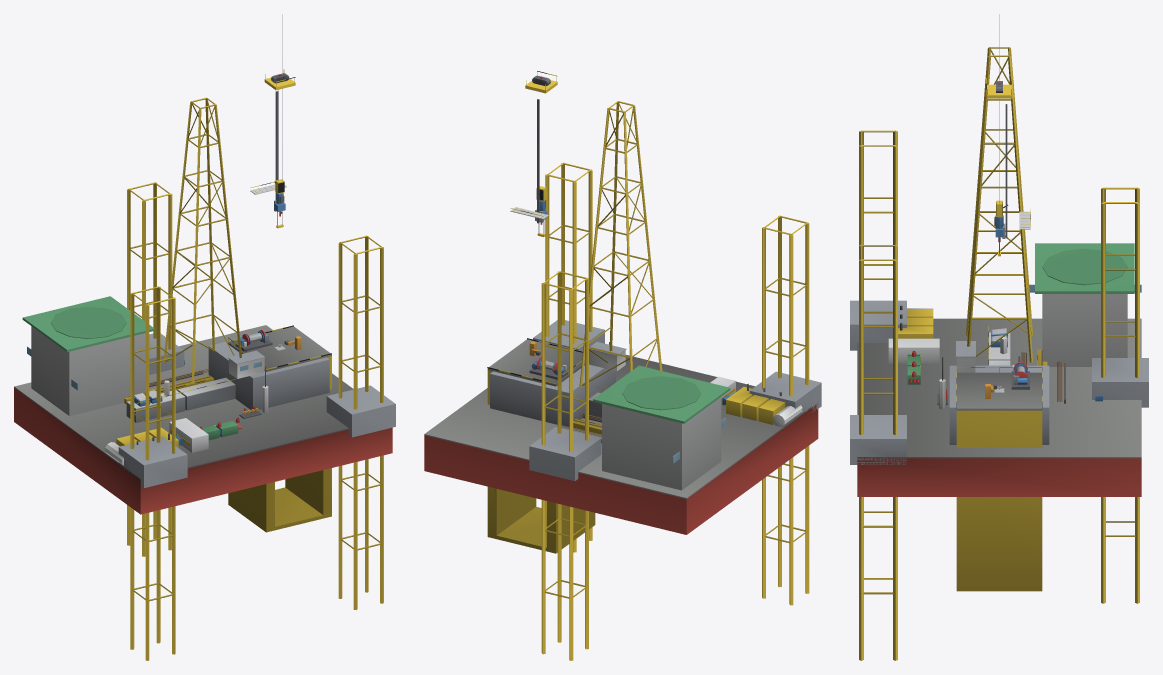
Rendered from jackup_low.glb.
The picture shows the model from 3 angles, left to right: view 1: azimuth 30°, elevation 25°; view 2: azimuth 150°, elevation 25°; view 3: azimuth 270°, elevation 25°; orthographic projection. The views are drawn at different scales.
Parts seen in each view (by area): view 1: hull__hull, hull__legs, mast__mast, mast__substructure, mudtanks__tanks, mast__floor, generators__vfd, mast__doghouse; view 2: hull__hull, hull__legs, mast__mast, mast__substructure, mast__floor, generators__gensets, mast__doghouse; view 3: hull__hull, hull__legs, mast__substructure, mast__mast, mast__floor, generators__vfd, generators__gensets, mast__doghouse, mudtanks__tanks, block__crown.
Boxes of the visible parts, x1,y1,x2,y2 form: hull__hull: [14, 296, 392, 514]; hull__legs: [118, 182, 395, 660]; mast__mast: [163, 97, 241, 383]; mast__substructure: [228, 356, 331, 532]; mudtanks__tanks: [126, 377, 235, 422]; mast__floor: [228, 325, 331, 371]; generators__vfd: [169, 418, 208, 452]; mast__doghouse: [228, 350, 265, 378]; hull__hull: [424, 340, 818, 534]; hull__legs: [529, 162, 821, 660]; mast__mast: [579, 101, 662, 386]; mast__substructure: [487, 370, 595, 553]; mast__floor: [487, 338, 584, 386]; generators__gensets: [726, 383, 785, 424]; mast__doghouse: [589, 341, 626, 371]; hull__hull: [857, 243, 1141, 496]; hull__legs: [850, 130, 1148, 660]; mast__substructure: [956, 410, 1042, 591]; mast__mast: [966, 47, 1032, 362]; mast__floor: [956, 367, 1042, 410]; generators__vfd: [888, 338, 939, 363]; generators__gensets: [898, 305, 933, 338]; mast__doghouse: [956, 341, 975, 372]; mudtanks__tanks: [988, 326, 1010, 365]; block__crown: [986, 78, 1012, 98].
Size of what is drawn, in the model's own units: 46.28 by 96.52 by 42.
